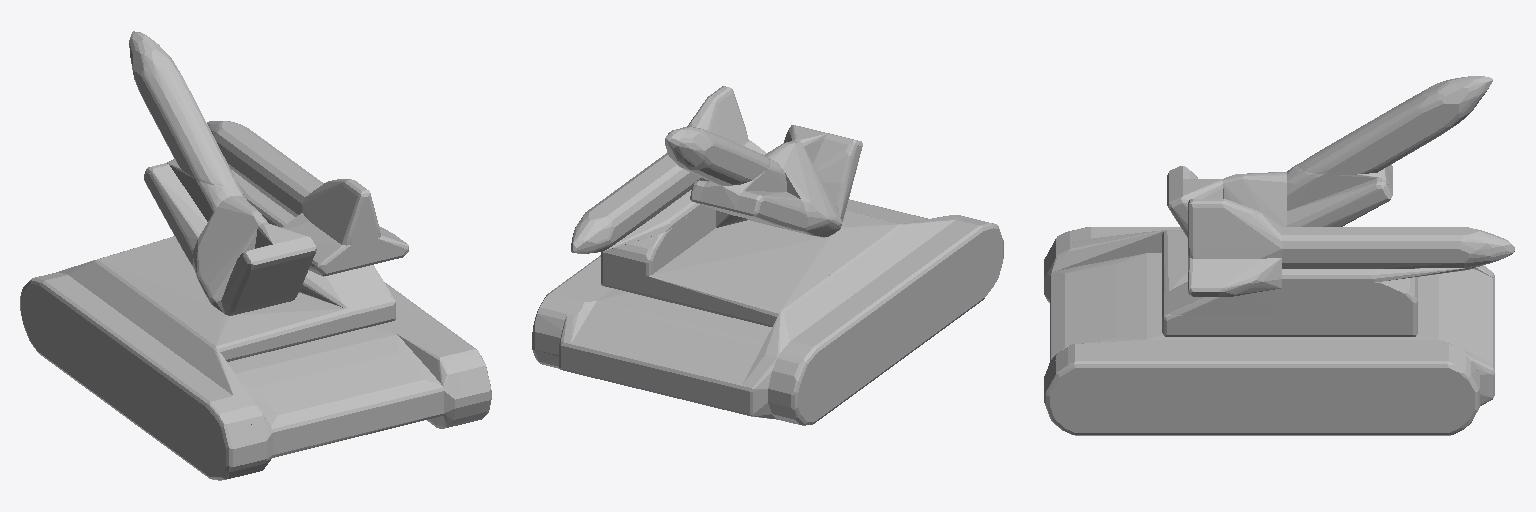
robot.urdf — root:
<?xml version="1.0"?>
<robot name="root">
  <link name="base_link">
    <visual>
      <origin xyz="0 0 0" rpy="0 0 0" />
      <geometry>
        <mesh filename="../meshes/unidex_sem_Tank-ca1190ff827af8c4dbe62544818af5a6_006.obj" scale="1.0000E+00 1.0000E+00 1.0000E+00" />
      </geometry>
      <material name="">
        <color rgba="7.50E-01 7.50E-01 7.50E-01 1" />
      </material>
    </visual>
    <collision>
      <origin xyz="0 0 0" rpy="0 0 0" />
      <geometry>
        <mesh filename="../meshes/unidex_sem_Tank-ca1190ff827af8c4dbe62544818af5a6_006.obj" scale="1.0000E+00 1.0000E+00 1.0000E+00" />
      </geometry>
    </collision>
  </link>
</robot>

--- What the picture shows (computed from the rendered views, not written in the file) ---
The picture shows the robot from 3 angles, left to right: view 1: azimuth 30°, elevation 25°; view 2: azimuth 150°, elevation 25°; view 3: azimuth 270°, elevation 25°; orthographic projection.
Robot: root — 1 links, 0 joints (none); root link base_link; default pose: every joint at zero.
Visible links, largest first — view 1: base_link; view 2: base_link; view 3: base_link.
Boxes of the visible links, x1,y1,x2,y2 form: base_link: (20,31,491,480); base_link: (532,86,1003,425); base_link: (1044,76,1514,435).
Size in the robot's own frame: 0.0599 by 0.0889 by 0.0599 metres.
1 mesh visuals loaded from 1 distinct referenced files (1 OBJ).
